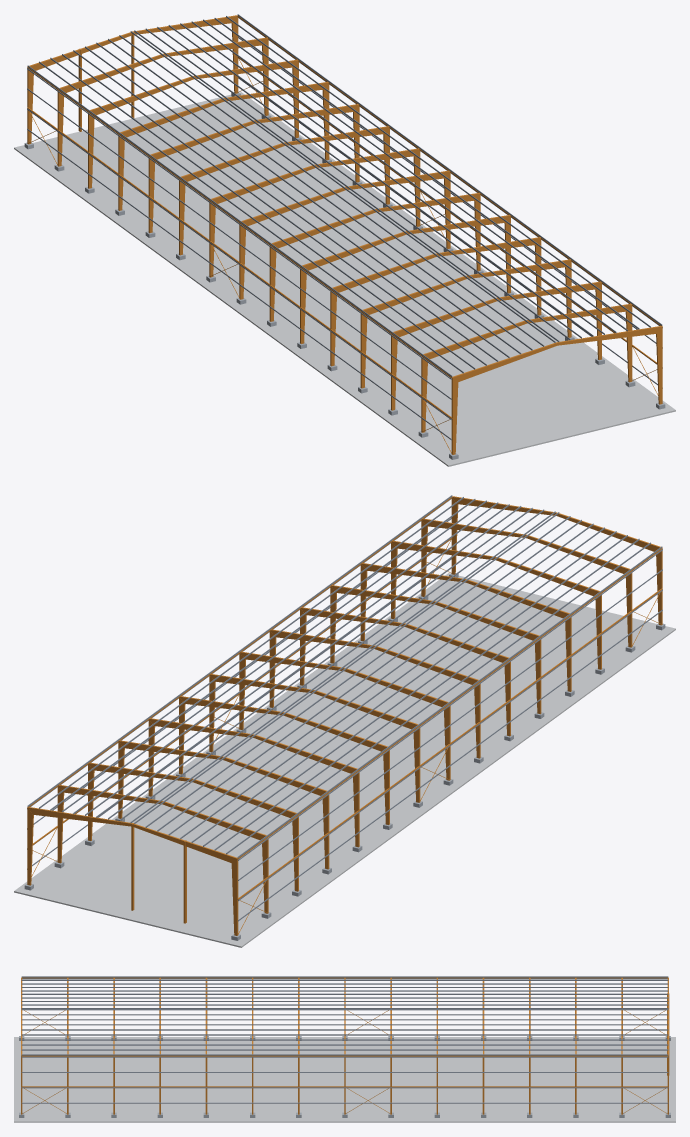
Rendered from nha_xuong_24x84.glb.
3 renders of one model, top to bottom at view 1: azimuth 30°, elevation 25°; view 2: azimuth 150°, elevation 25°; view 3: azimuth 270°, elevation 25°, orthographic. The views are drawn at different scales.
Parts seen in each view (by area): view 1: geometry_0; view 2: geometry_0; view 3: geometry_0.
Boxes of the visible parts, x1,y1,x2,y2 form: geometry_0: [14, 14, 675, 466]; geometry_0: [14, 495, 675, 947]; geometry_0: [14, 976, 675, 1122].
Bounding box in the file's own units: 26 × 10.29 × 86.
